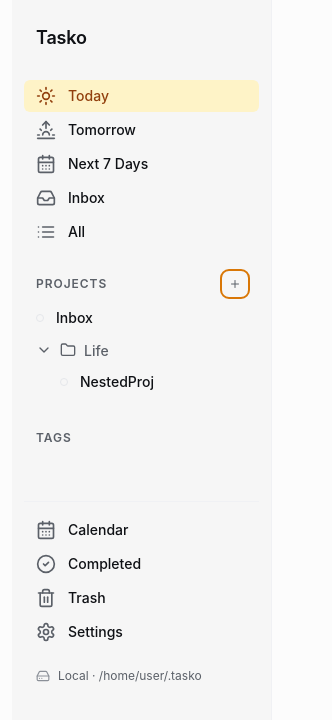
Test: Sidebar › right-click context menu on project row › right-clicking a project NESTED in a folder shows project actions, not folder actions
Right-click the list item "NestedProj" at [107, 382], box top-left (60, 373), bottom-right (154, 390)
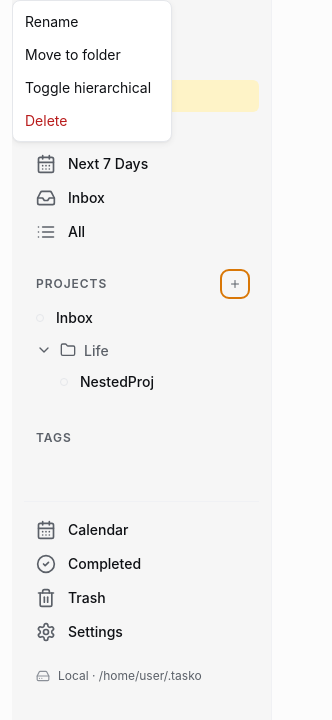
Result: the menu item "Rename" is shown at top-left (13, 5), bottom-right (171, 38)
Result: the menu item "Move to folder" is shown at top-left (13, 38), bottom-right (171, 71)
Result: the menu item "Toggle hierarchical" is shown at top-left (13, 71), bottom-right (171, 104)
